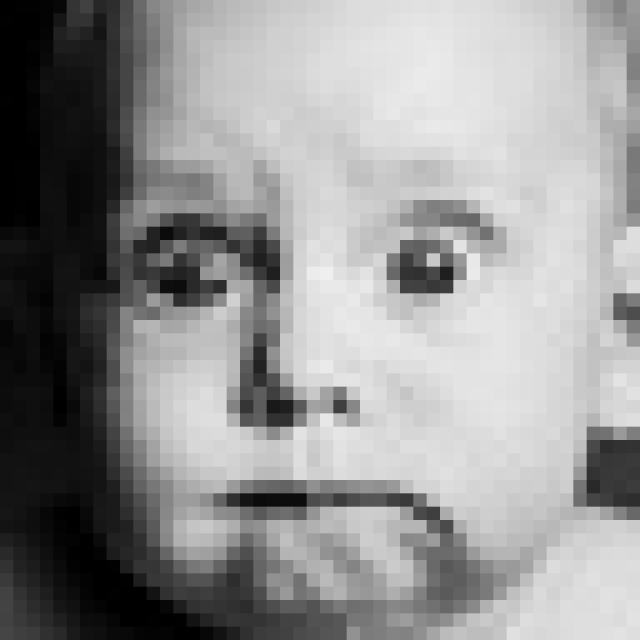fear: (110, 145, 541, 564)
